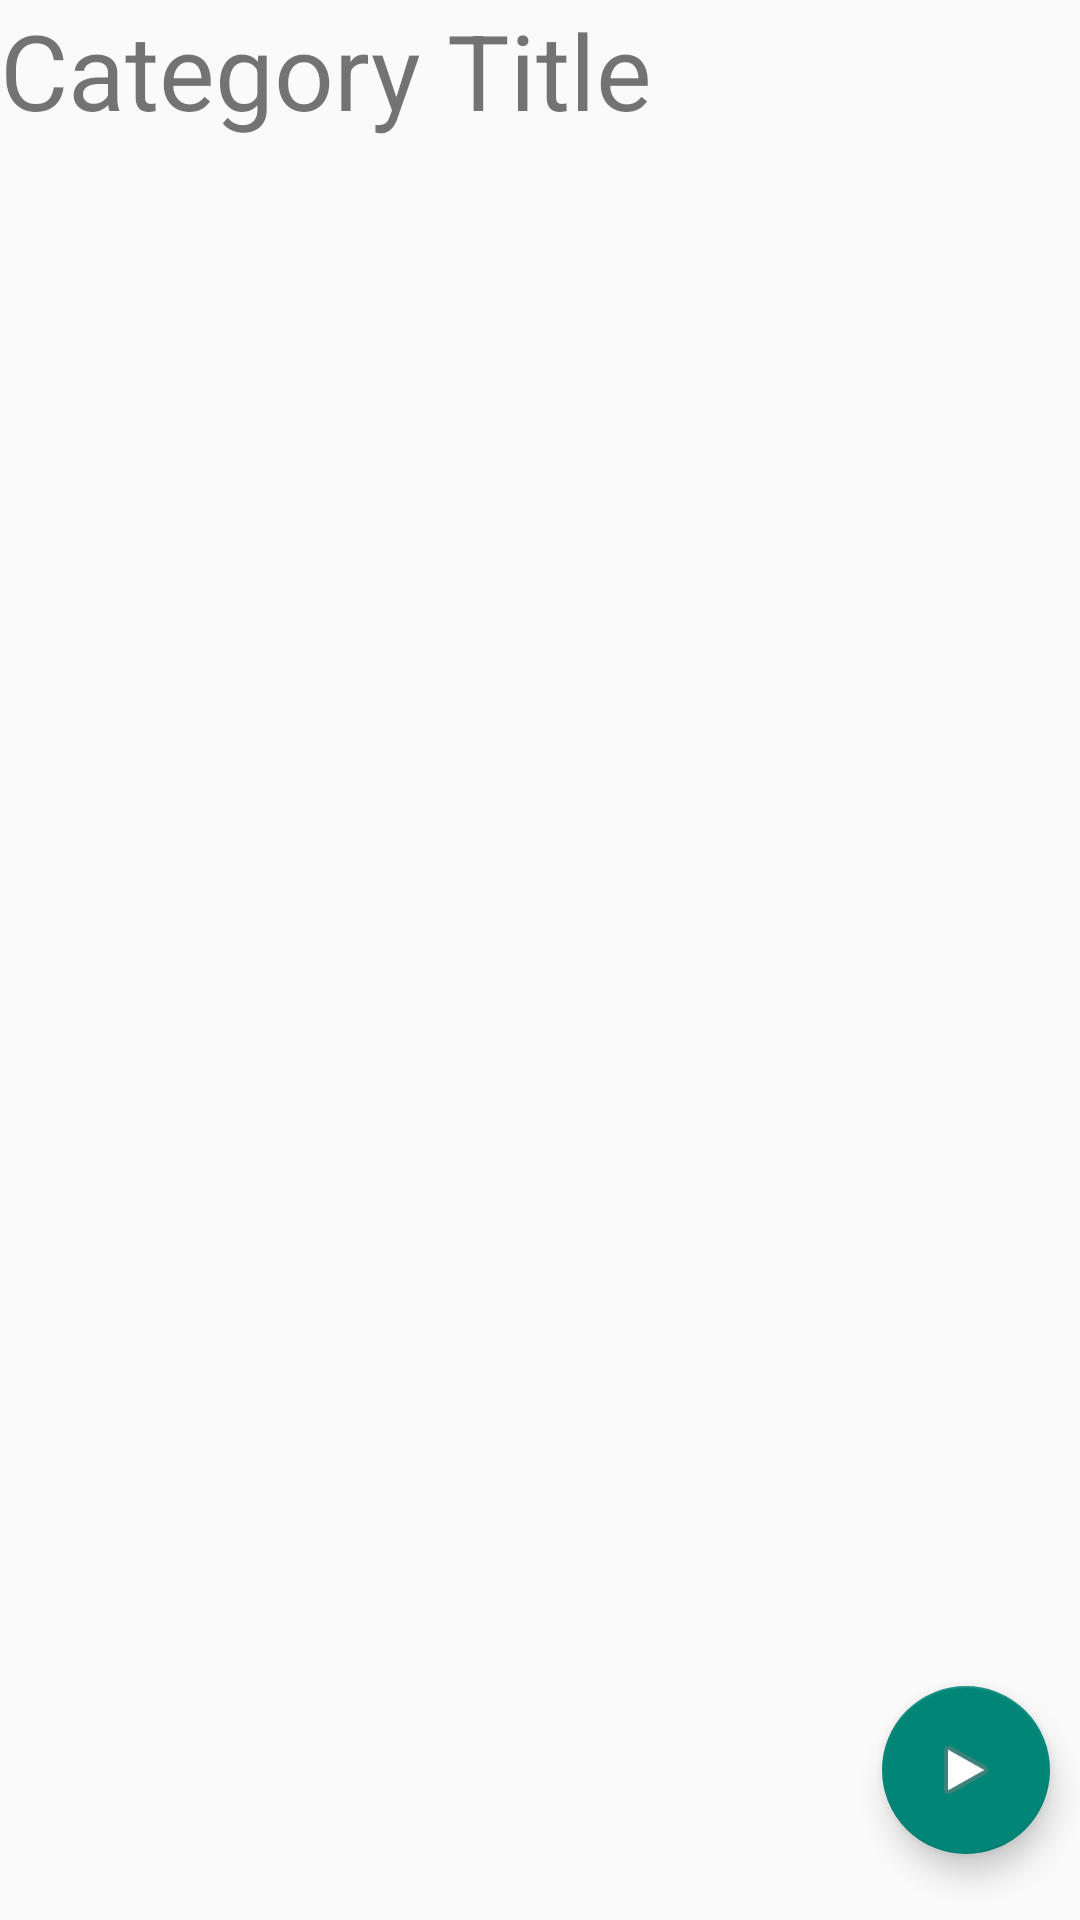

Where icons sit on this 1080×1920 app screen, as [x1,y1,x2,y2]:
play: [882,1686,1050,1854]
